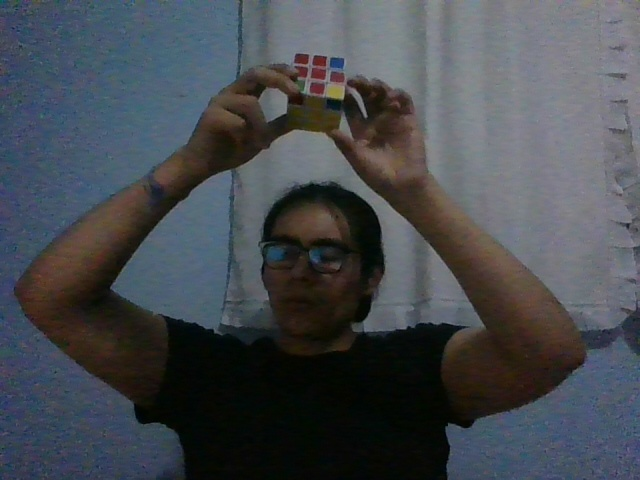rubik: (285, 52, 345, 133)
